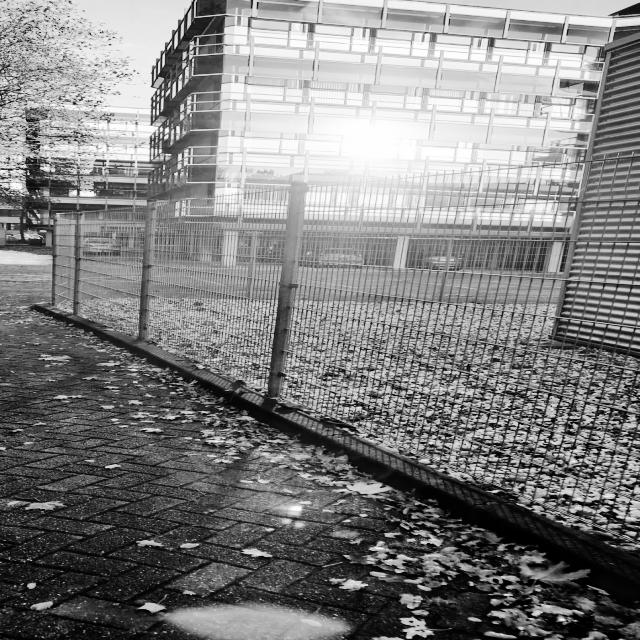fences: (220, 172, 640, 523), (45, 210, 159, 351)
